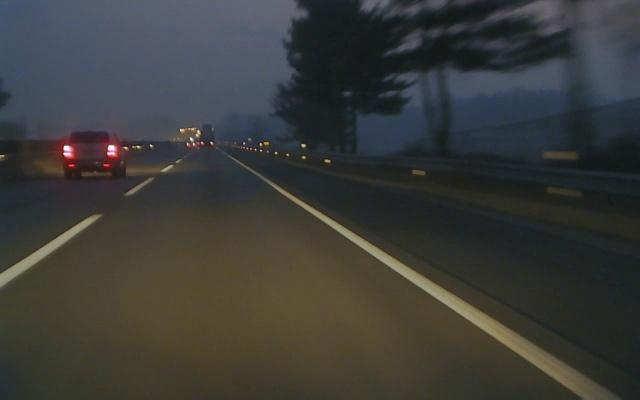lane: (225, 156, 628, 400), (0, 156, 182, 294)
